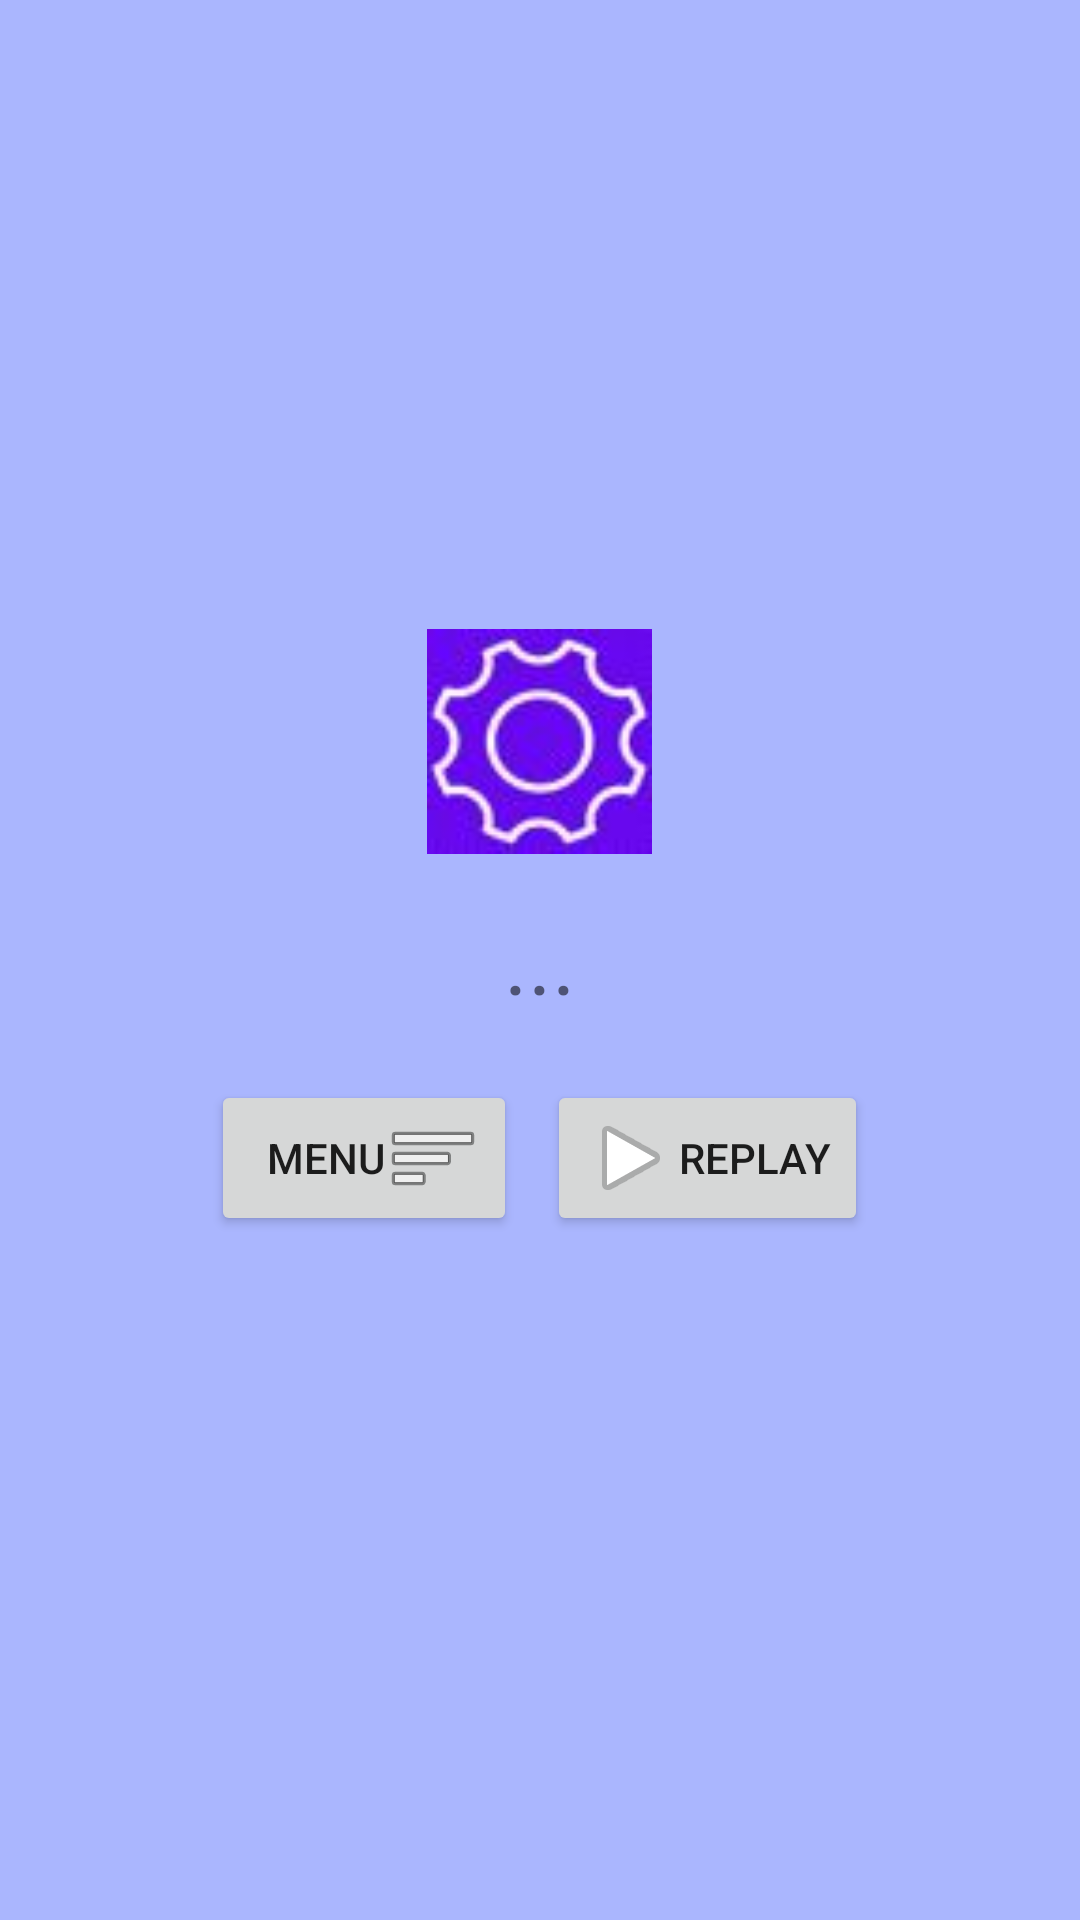

Screen size 1080x1920. Icon name, then its center in pixels as (x,y):
settingsicon: (539,741)
